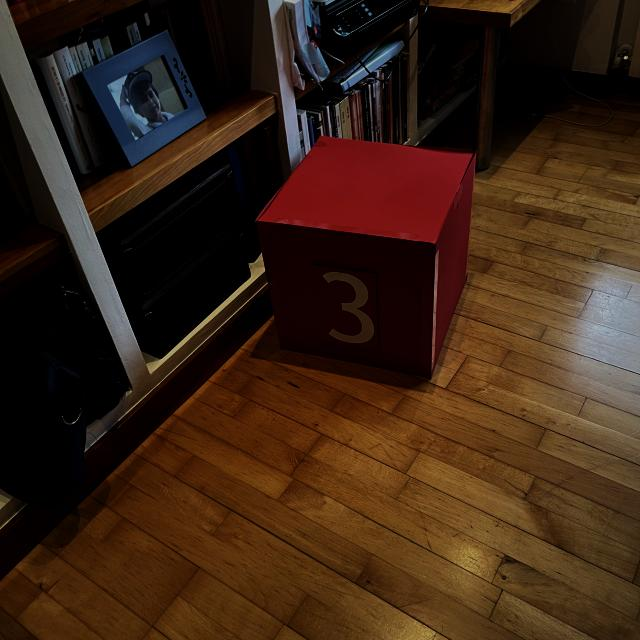box: (252, 132, 479, 381)
